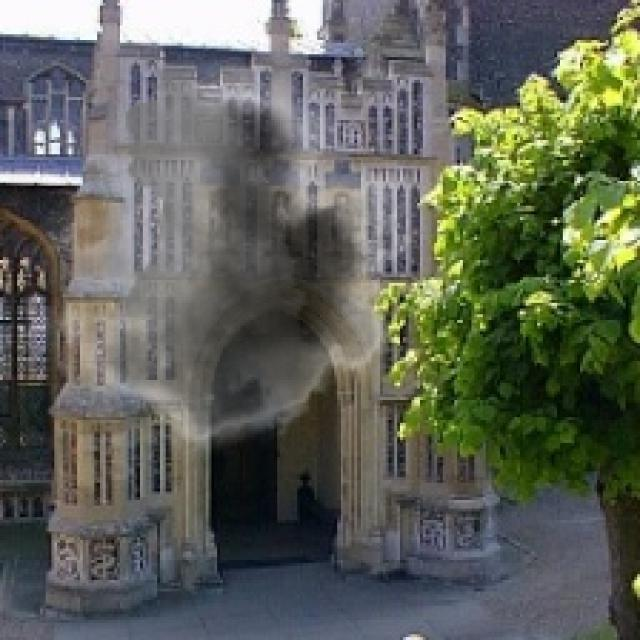Smoke: (12, 59, 434, 472)
